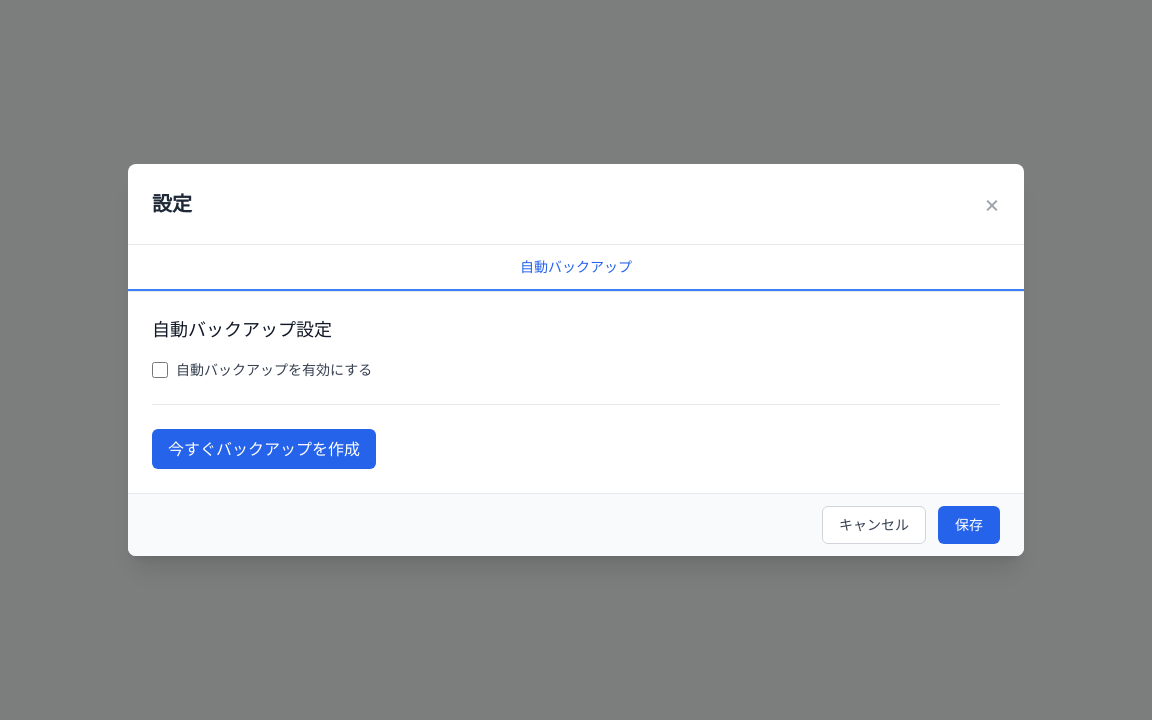
Test: SettingsModal Component › モーダル操作 › ローディング中はボタンが無効化されること
Click the button "保存" at (969, 525), box [938,506,1000,544]
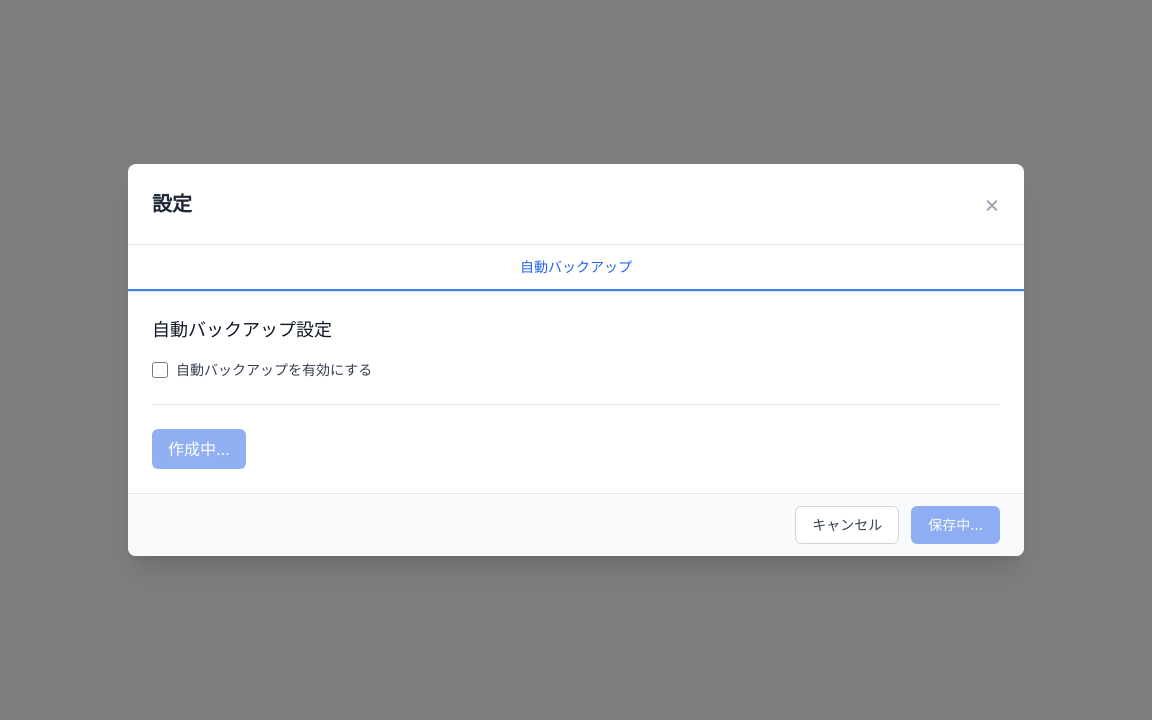
Expected: the button "×" is disabled, [984,188,1000,220]
Expected: the button "保存中..." is shown, [911,506,1000,544]
